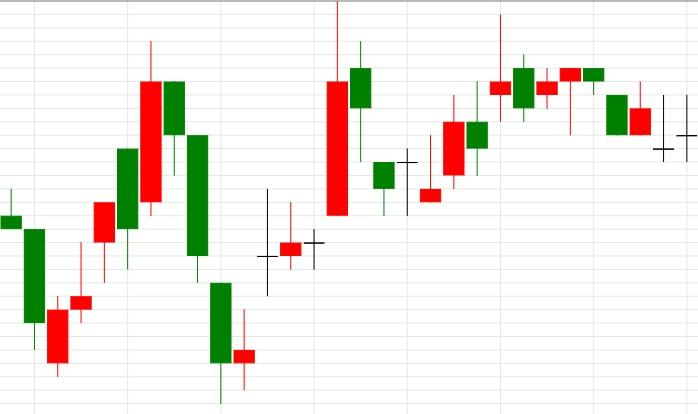three_black_crows_fall: (47, 41, 231, 404)
